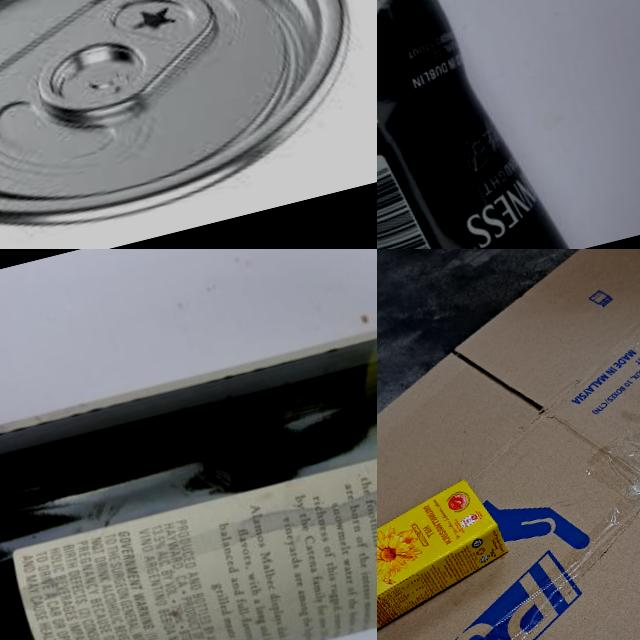aba de lata: (17, 0, 237, 142)
garrafa de vidro: (0, 279, 377, 640), (377, 0, 573, 249)
papelão: (377, 249, 640, 640), (377, 470, 517, 640)
